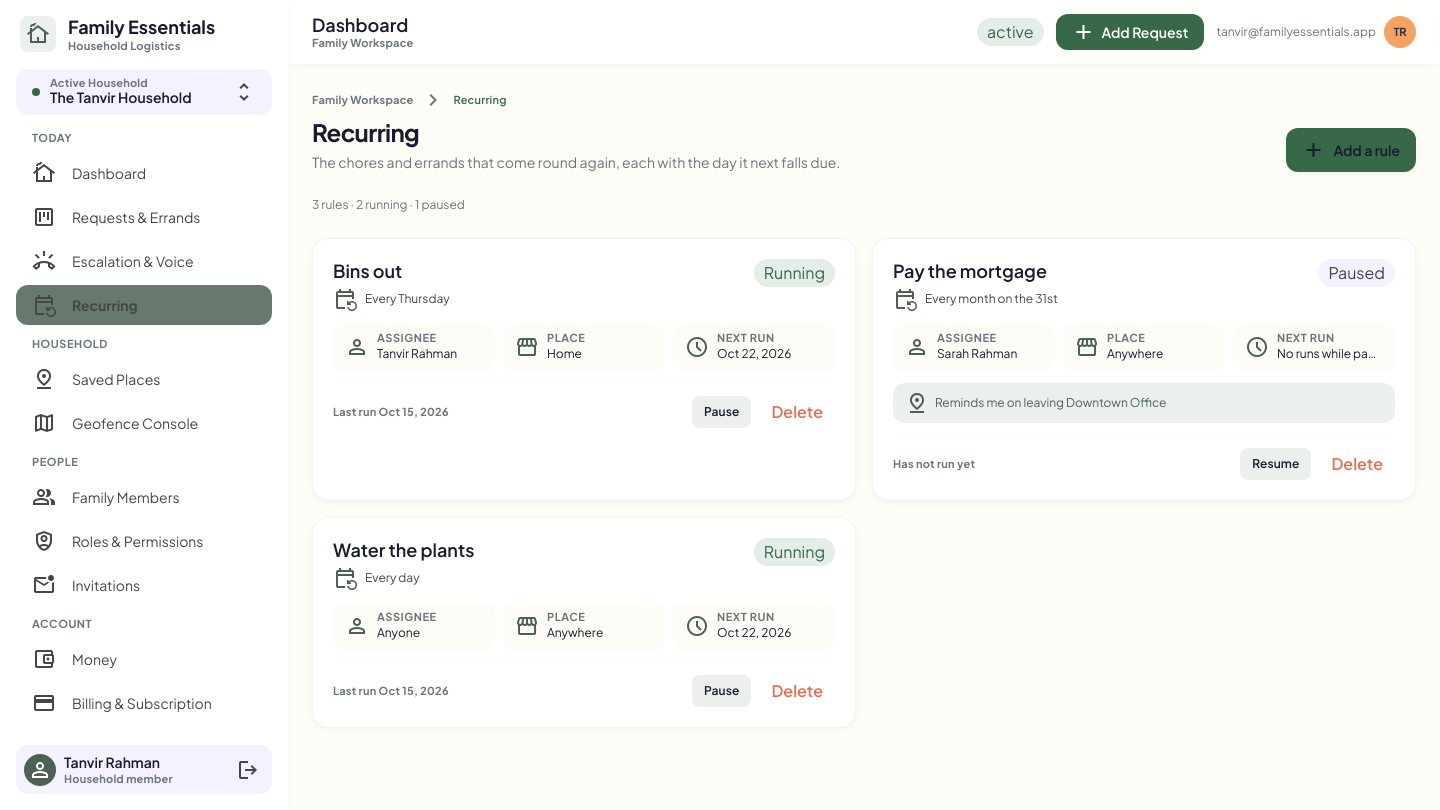
recurring rules › asks for a weekday only when the cadence is weekly
Click the button "Add a rule". click: (1351, 150)
box: [1286,128,1416,172]
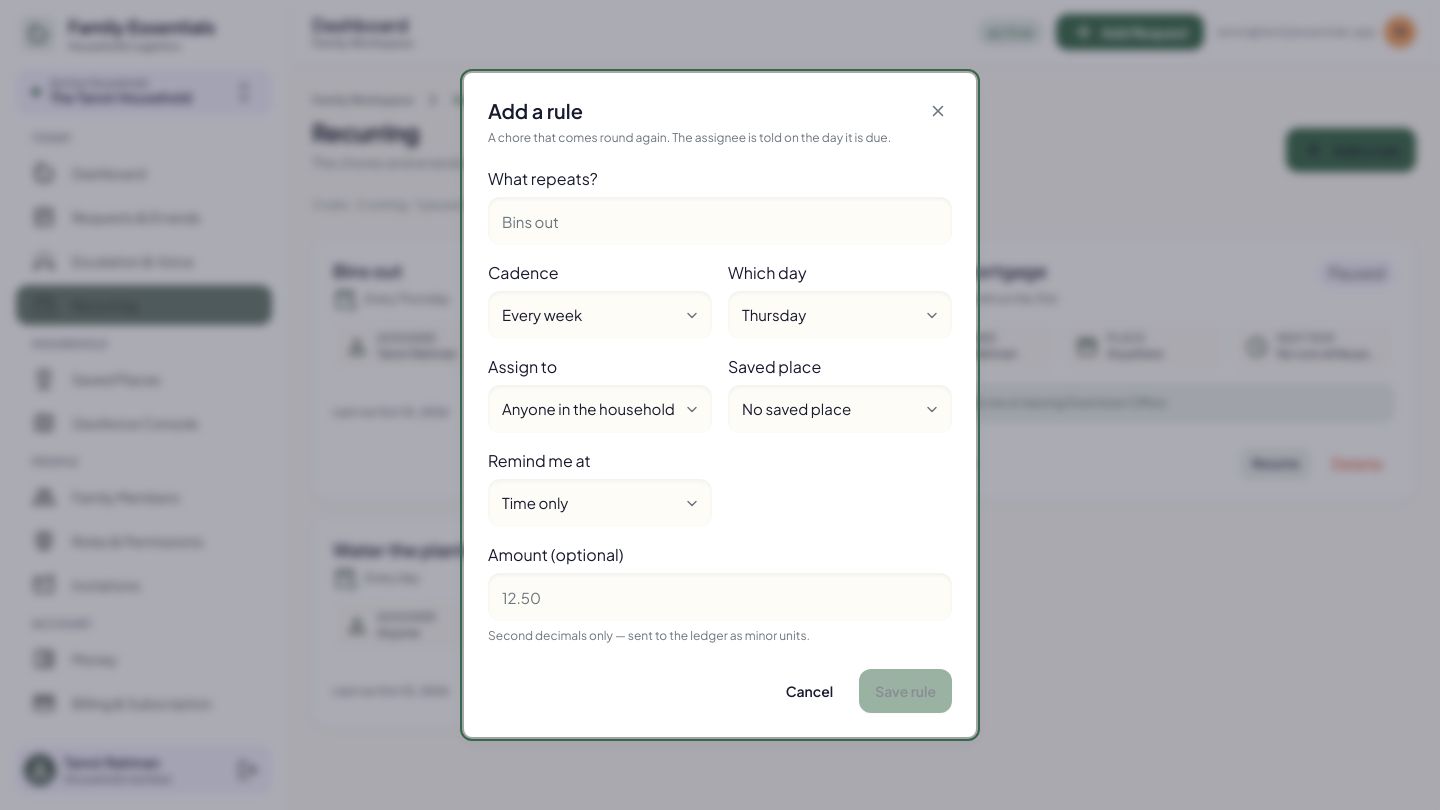
Expected: the field labelled "Which day of the month" is not shown
Expected: the dialog "Add a rule" is shown, [464,73,976,737]
Expected: the dropdown labelled "Which day" is shown, [728,291,952,339]
Select "Every month" in the dropdown labelled "Cadence". click: (600, 315)
box: [488,291,712,339]
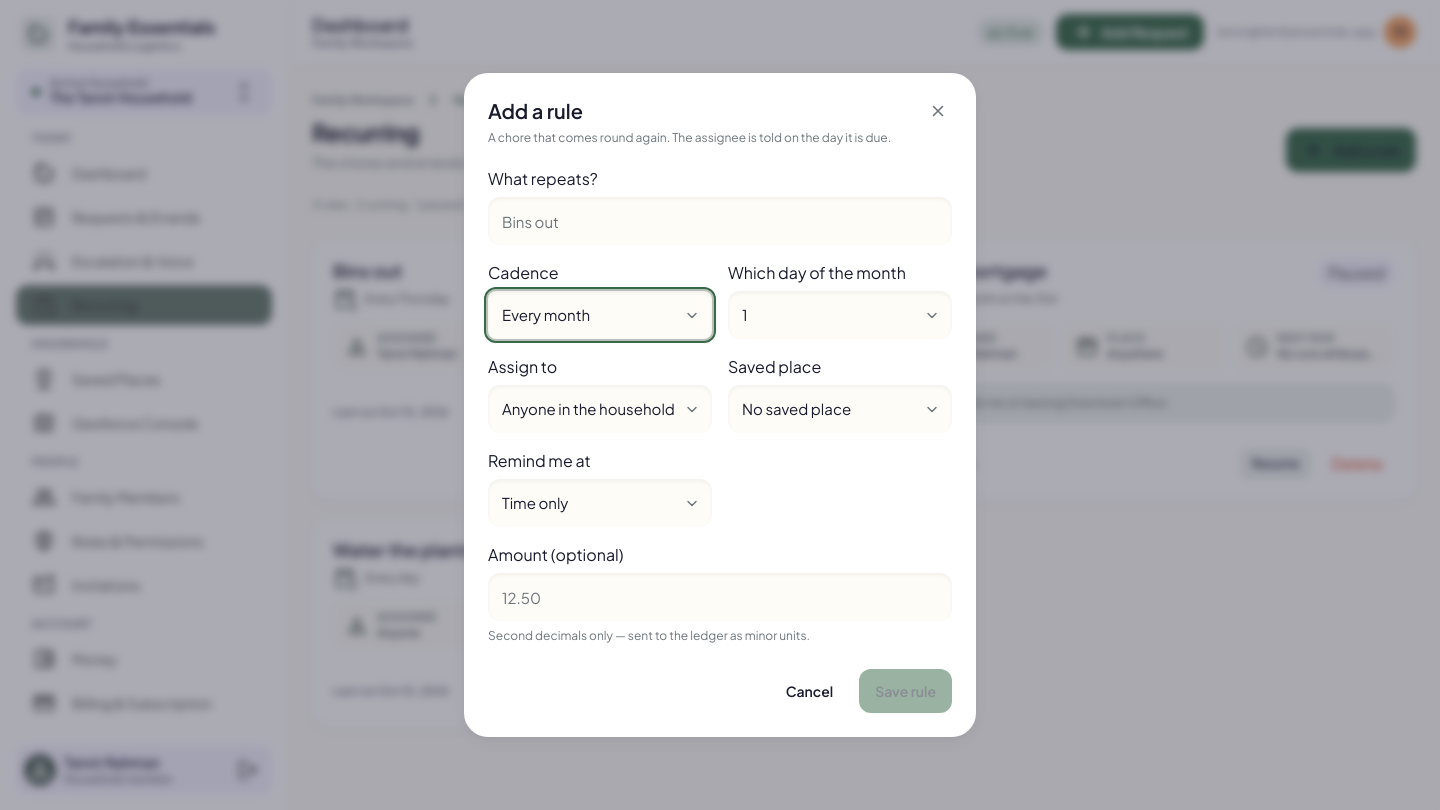
Expected: the dropdown labelled "Which day of the month" is shown, [728,291,952,339]
